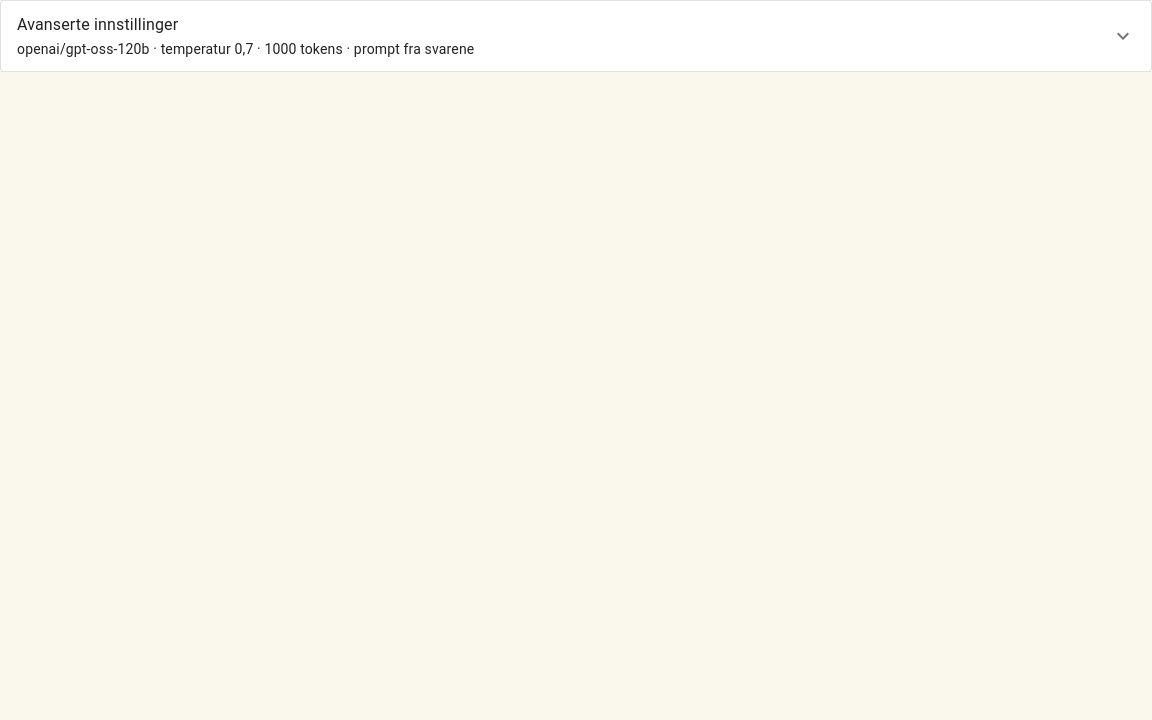
AdvancedSettingsFields › accepts a temperature written with a decimal comma
Click the button "Avanserte innstillinger" at (98, 24), box [1,1,1151,71]
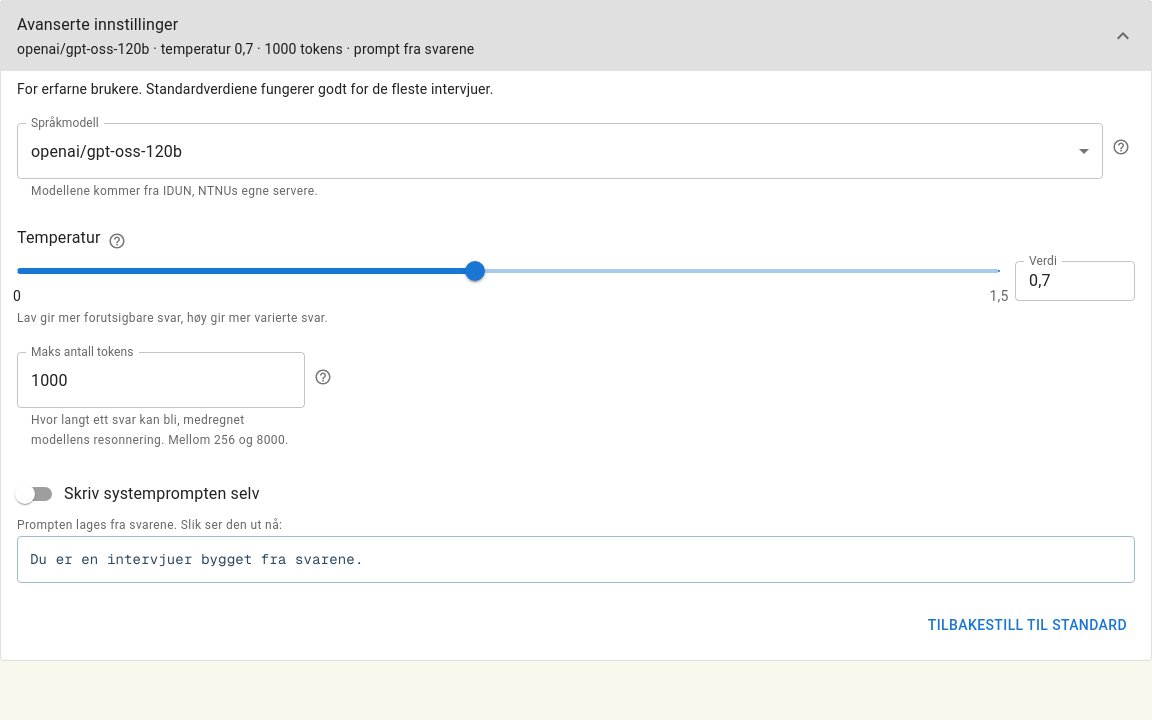
Clear the field labelled "Verdi" at (1075, 280), box [1015,260,1135,300]
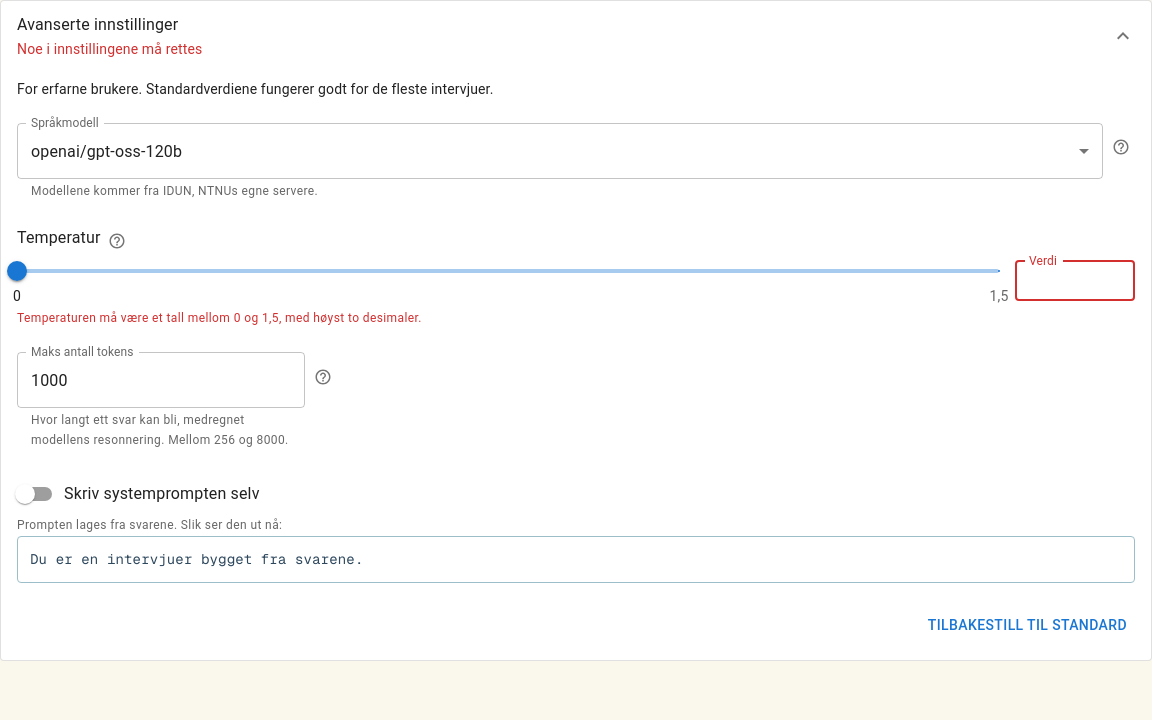
Type keys "0,5"
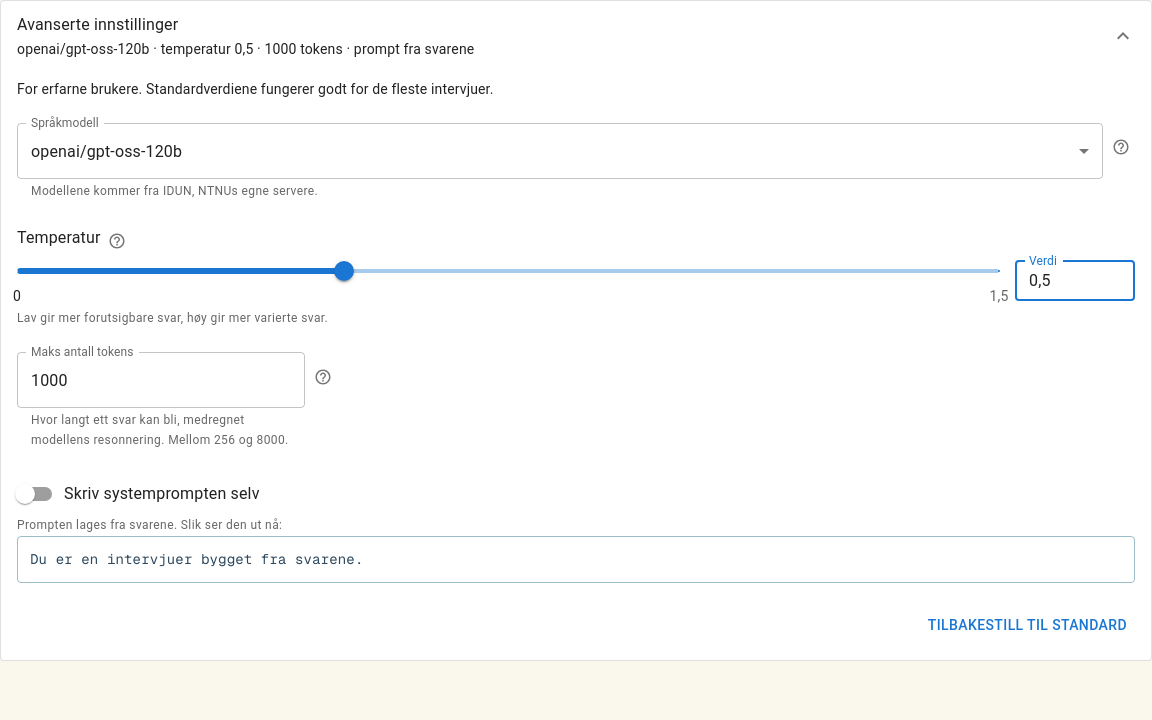
expect the text "Temperaturen må være" is gone: met
